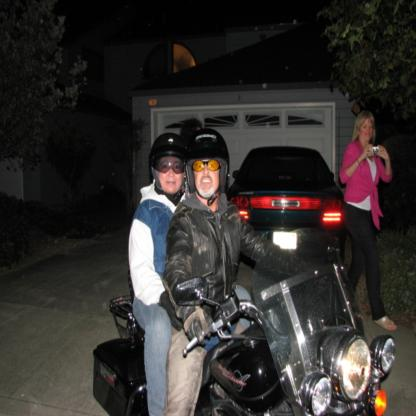Helmet: (185, 130, 231, 203), (153, 134, 190, 202)
